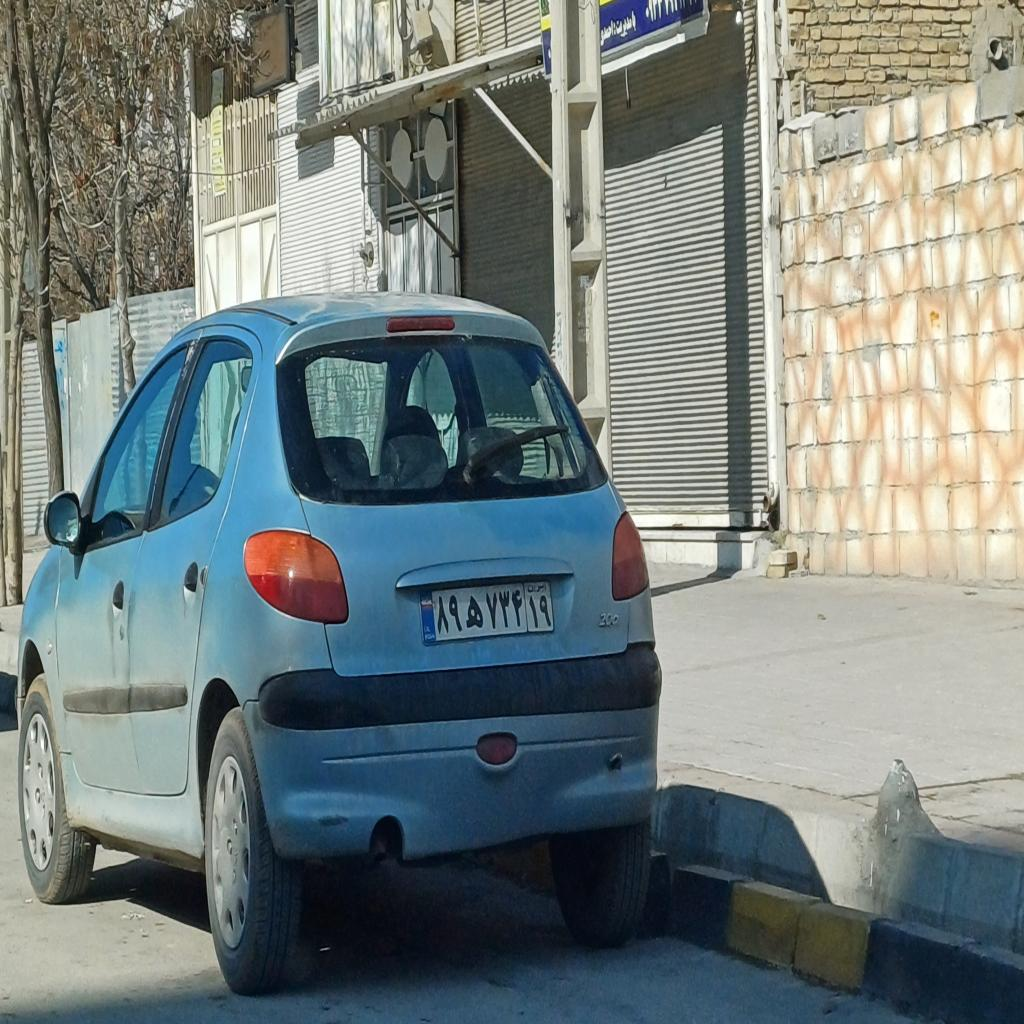Plates: (419, 578, 557, 648)
